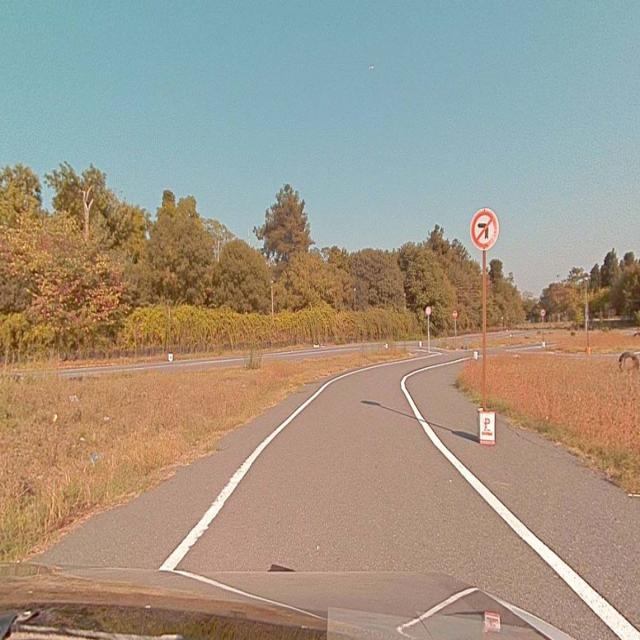soladonulmez: (472, 210, 498, 248)
